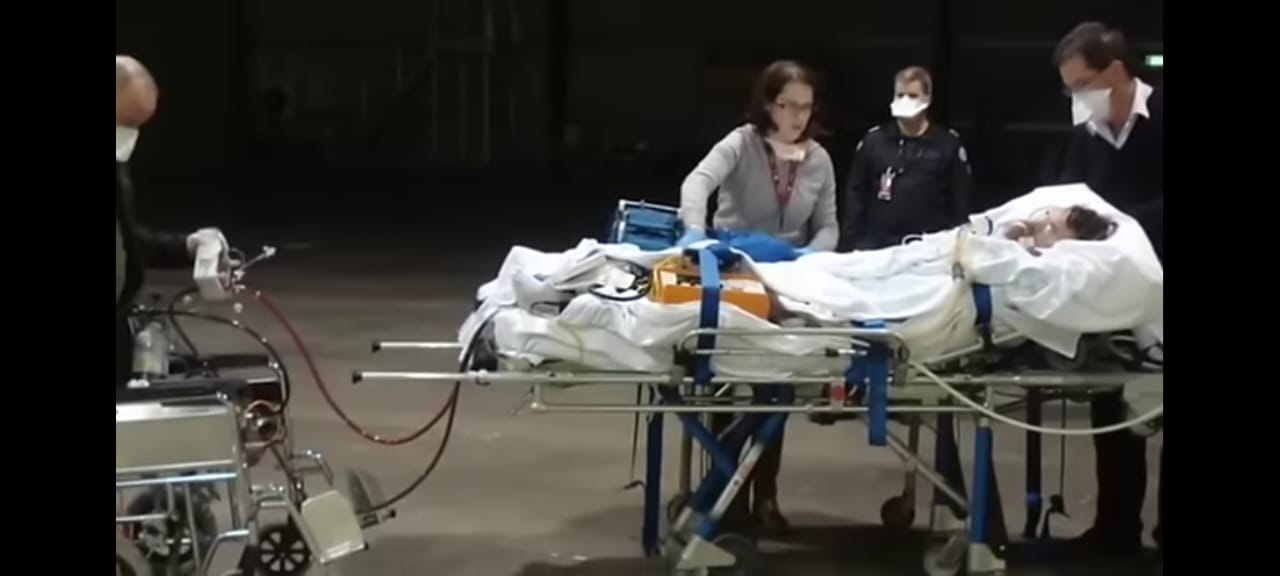doctor: (664, 54, 847, 260), (846, 59, 980, 243), (1039, 23, 1162, 216), (112, 41, 179, 333)
patient: (486, 206, 1155, 361)
